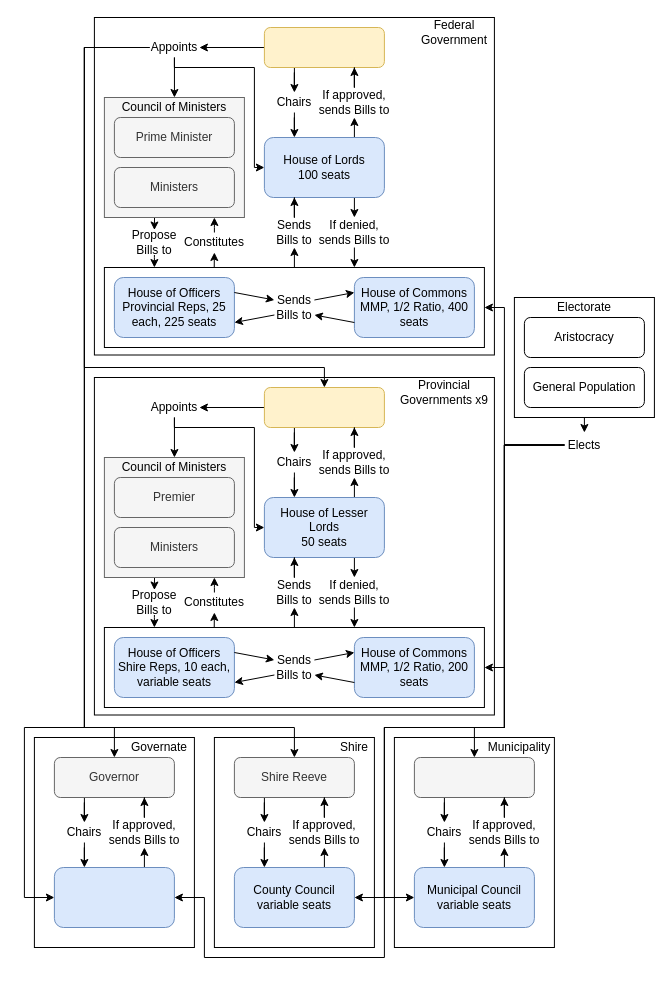
Some shapes in this 672 by 983 pixel diagram are drawn without their labels. Here are the shapes that lost their labels. From the top down, the box of each, then its label:
(263, 26, 384, 68): Monarch
(263, 386, 384, 428): Lord Representative
(413, 756, 534, 798): Reeve
(53, 866, 174, 928): The Assembly 10 appointed seats 40 elected seats
